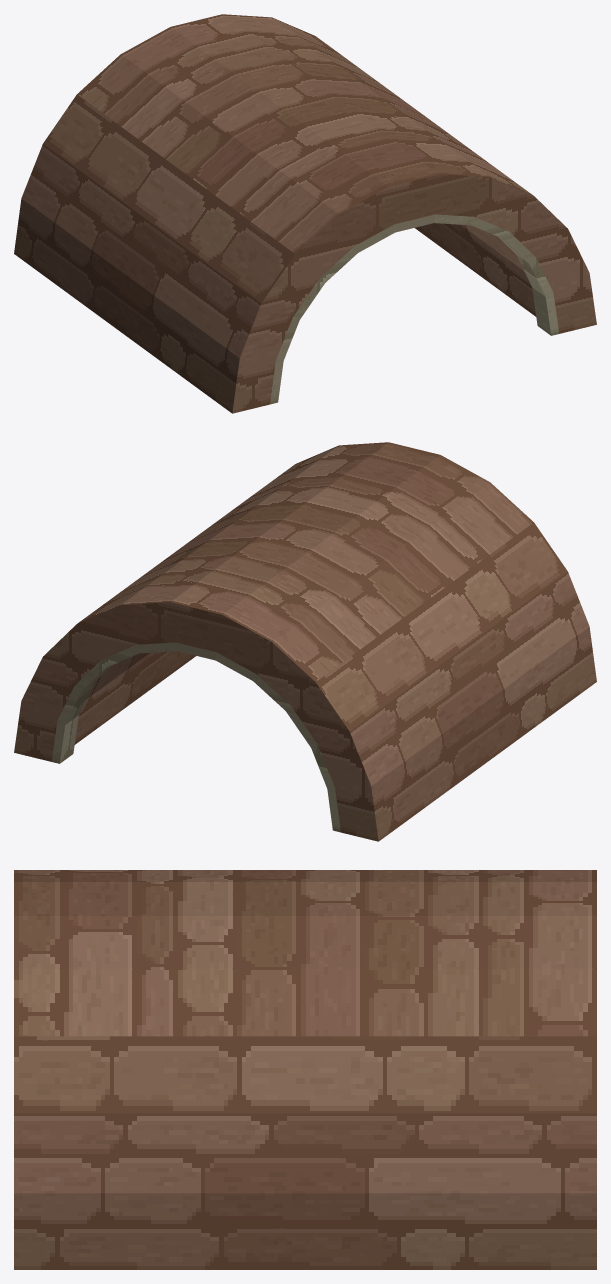
The model's file is barrel_vault.glb.
The picture shows the model from 3 angles, top to bottom: view 1: azimuth 30°, elevation 25°; view 2: azimuth 150°, elevation 25°; view 3: azimuth 270°, elevation 25°; orthographic projection. The views are drawn at different scales.
Visible parts, largest first — view 1: Barrel vault; view 2: Barrel vault; view 3: Barrel vault.
Part boxes in pixels (box(x1,y1,x2,y2)): Barrel vault: box(14, 14, 596, 413); Barrel vault: box(14, 442, 596, 841); Barrel vault: box(14, 870, 596, 1269).
Bounding box in the file's own units: 1.93 × 0.9542 × 2.
Materials: 3 (2 with a texture image).
